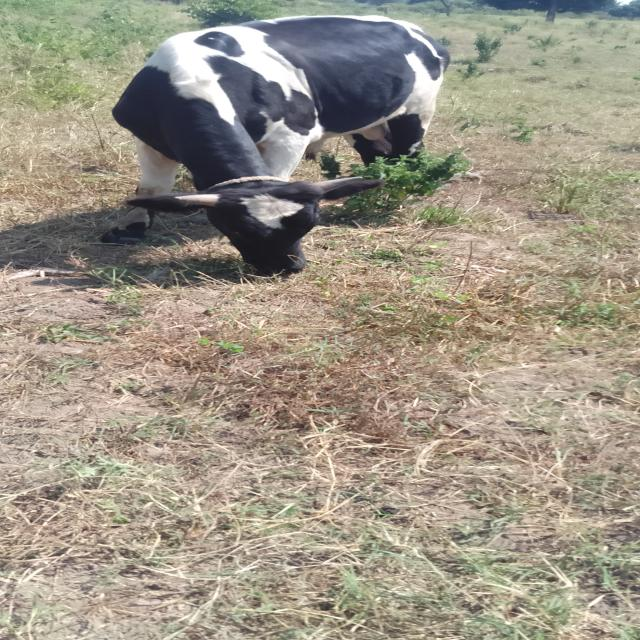cow: (79, 3, 528, 308)
